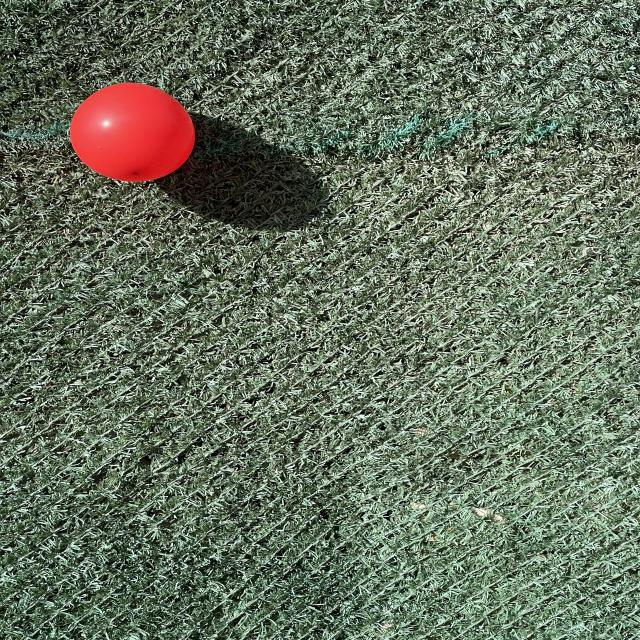balloon: (70, 83, 194, 181), (130, 127, 132, 128)
